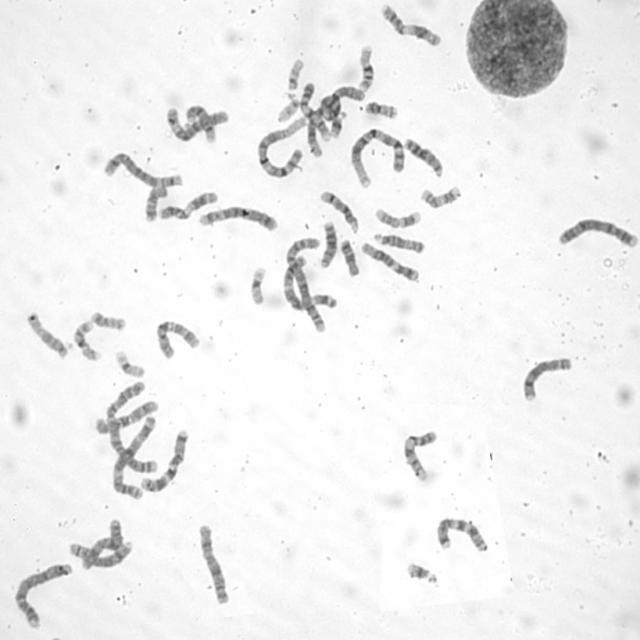A1: (348, 124, 407, 190), (255, 113, 308, 179)
A2: (102, 374, 158, 475), (283, 238, 329, 335)
A3: (110, 411, 158, 501), (282, 255, 338, 313)
B4: (12, 560, 74, 630), (556, 215, 639, 248)
B5: (100, 150, 185, 189), (196, 204, 279, 232)
C10: (92, 397, 160, 435), (154, 317, 202, 360)
C11: (376, 1, 444, 48), (156, 189, 220, 221)
C12: (358, 240, 420, 284), (305, 93, 339, 161)
C6: (164, 102, 221, 144), (318, 82, 368, 124)
C7: (137, 425, 191, 493), (435, 516, 489, 554)
C8: (519, 354, 573, 404), (69, 535, 134, 569)
C9: (298, 79, 332, 144), (401, 427, 440, 482)
D13: (401, 133, 445, 179), (316, 218, 339, 270)
D14: (318, 188, 360, 234), (184, 102, 219, 144)
D15: (24, 309, 71, 361), (371, 230, 426, 255)
E16: (70, 316, 104, 363), (355, 41, 376, 92)
E17: (372, 206, 422, 229), (419, 184, 462, 210)
E18: (337, 236, 362, 278), (142, 183, 168, 223)
F19: (112, 348, 147, 378), (247, 264, 267, 306)
F20: (88, 308, 128, 332), (362, 98, 399, 120)
G21: (404, 558, 441, 587), (327, 109, 348, 139)
G22: (275, 89, 300, 124), (285, 56, 305, 91)
X: (195, 521, 231, 607), (80, 516, 124, 572)
